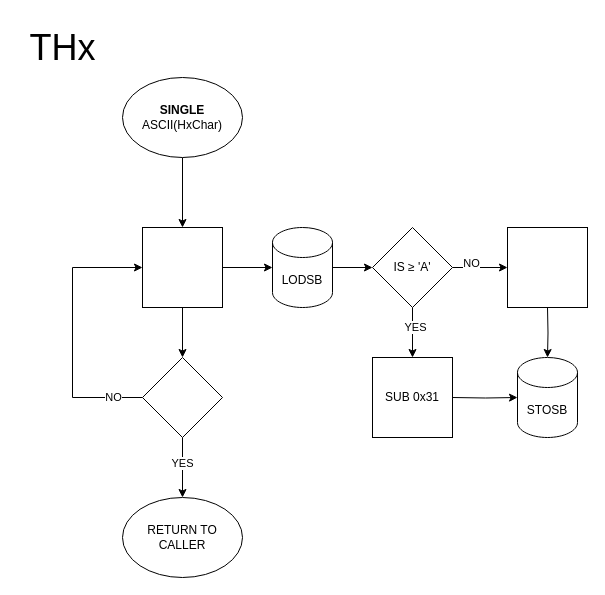
The diagram is 605 pixels wide and 595 high, and some of its shapes have lost their labels. The shapes that lost their labels are listed below. From the top down, each one's centre as x and y in pixels, then its label:
At [182,267]: "ASCII".
At [547,267]: "SUB '0'".
At [182,397]: "is count 0".
